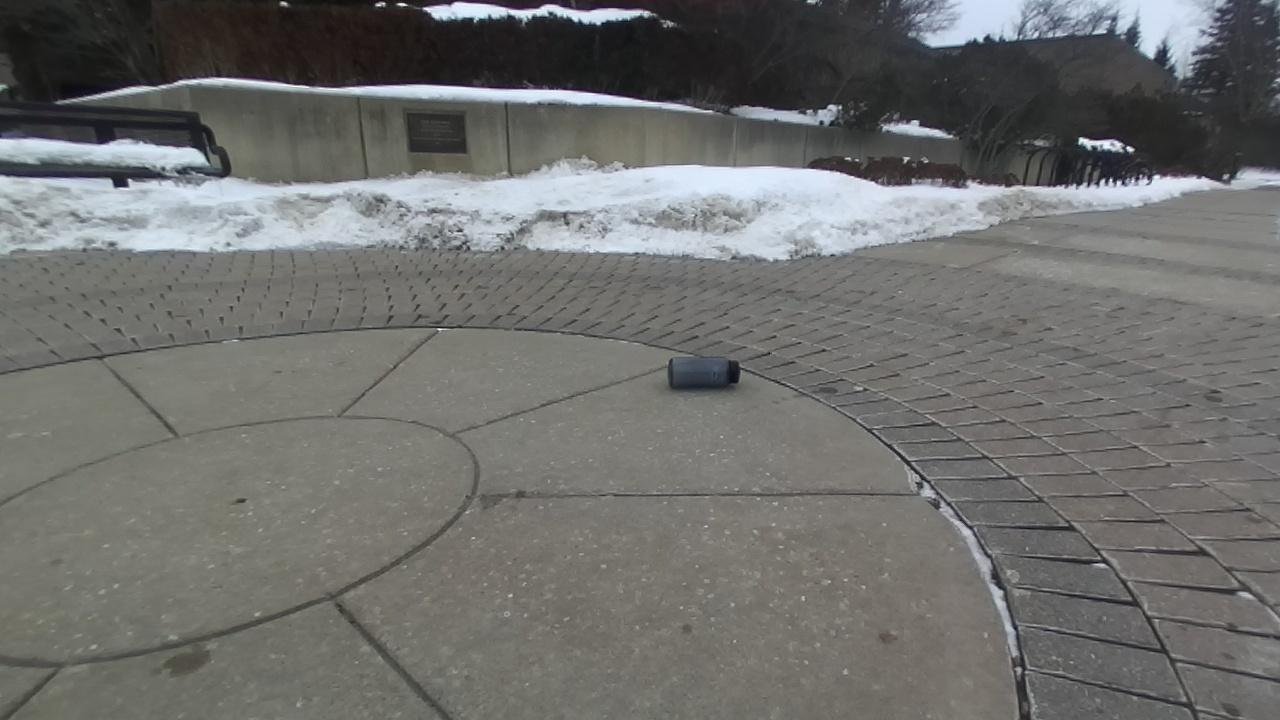bottle: (668, 357, 739, 388)
